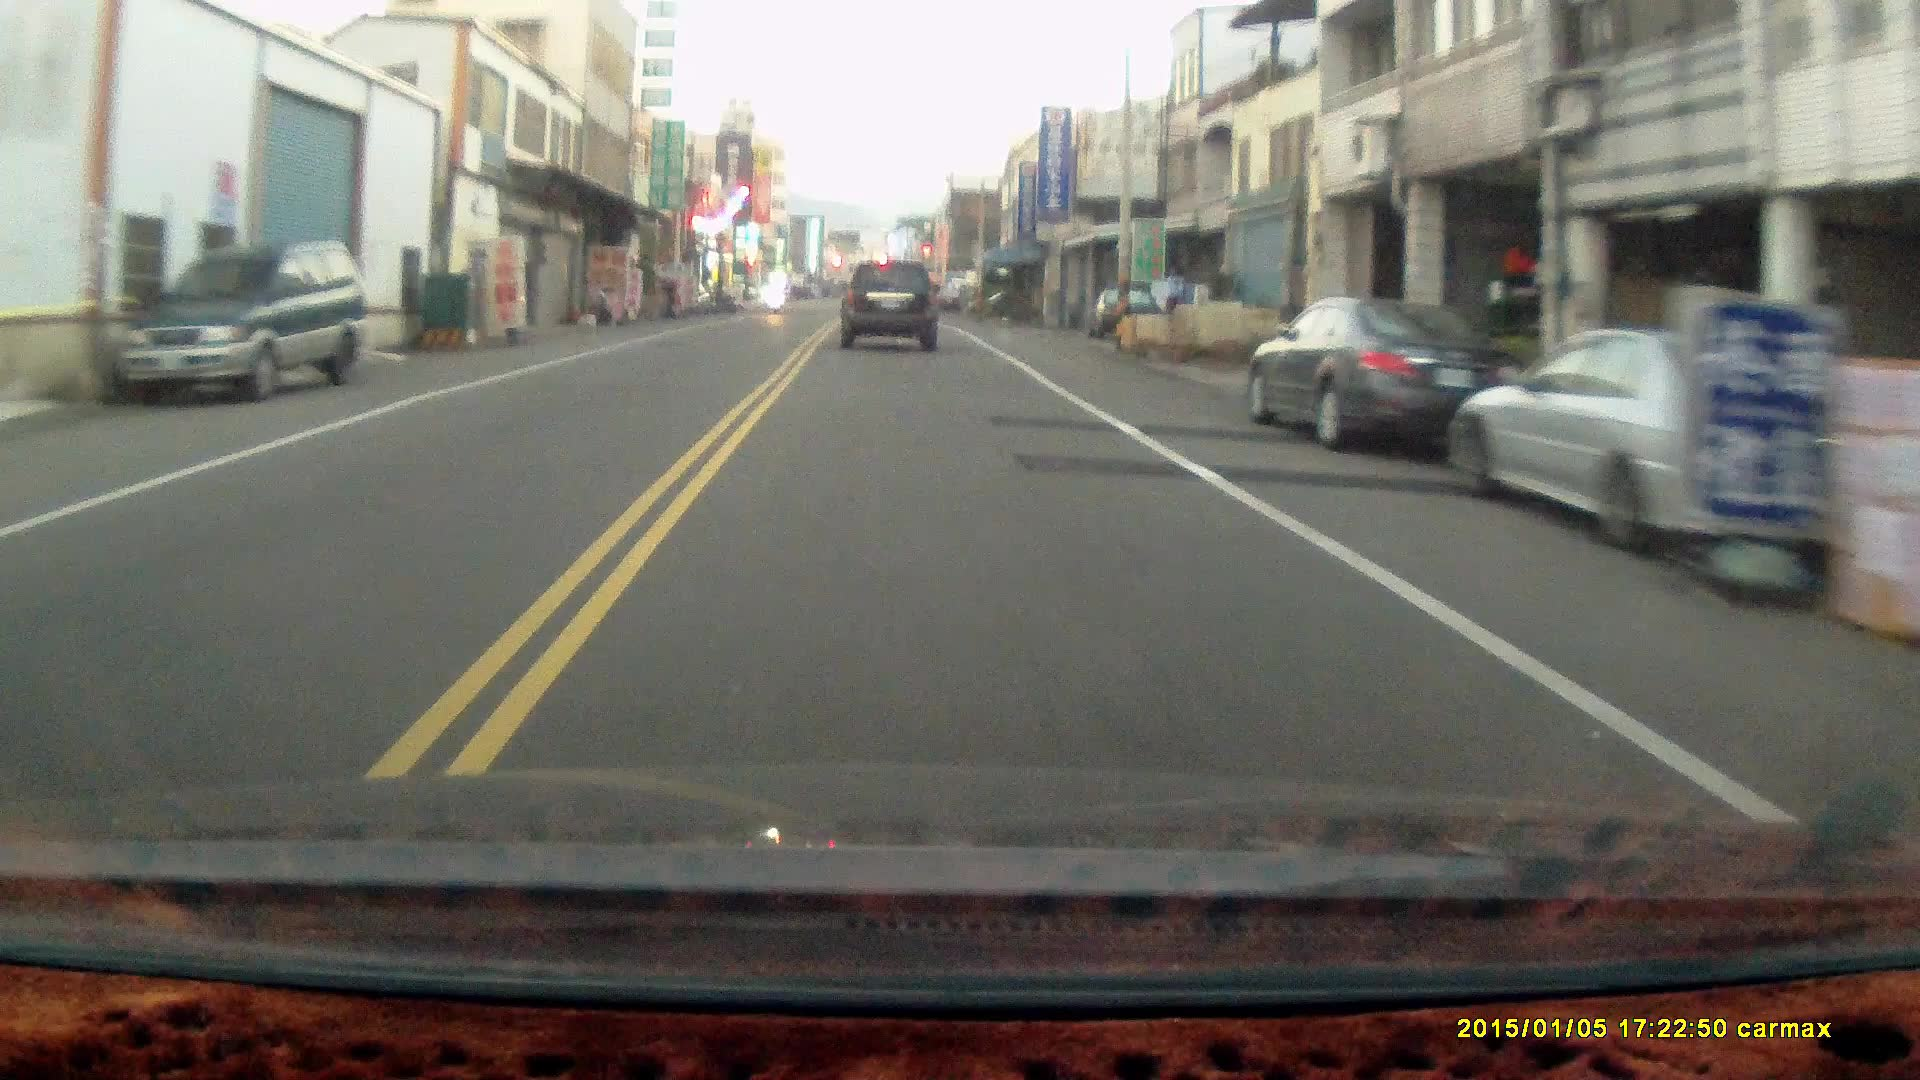pedestrian: (658, 273, 678, 322)
vehicle: (1456, 327, 1904, 541), (1247, 295, 1531, 454), (115, 242, 364, 404), (841, 262, 943, 354)
